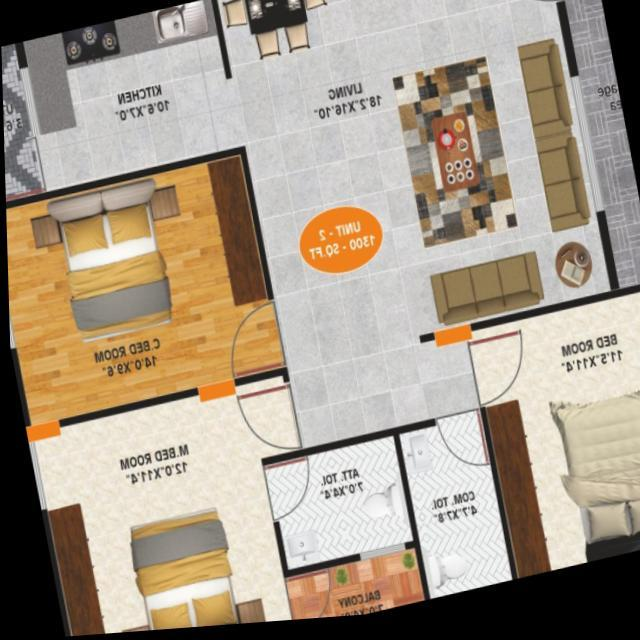Balcony-Sitout: (283, 551, 424, 624)
Bedroom: (5, 151, 285, 434), (463, 295, 640, 587)
Bedroom with Toilet: (23, 370, 414, 637)
Dining: (218, 0, 340, 86)
Enterance-Foyer: (491, 0, 569, 29)
Kitchen: (21, 0, 242, 194)
Living: (341, 0, 621, 346)
Toilet: (392, 417, 511, 606), (264, 440, 411, 577)
Utility: (1, 43, 47, 201)
